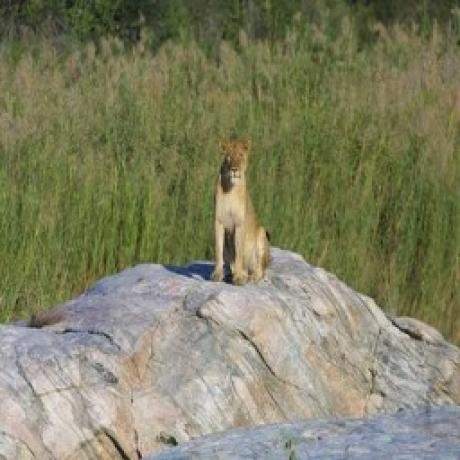Lion: (213, 133, 273, 291)
